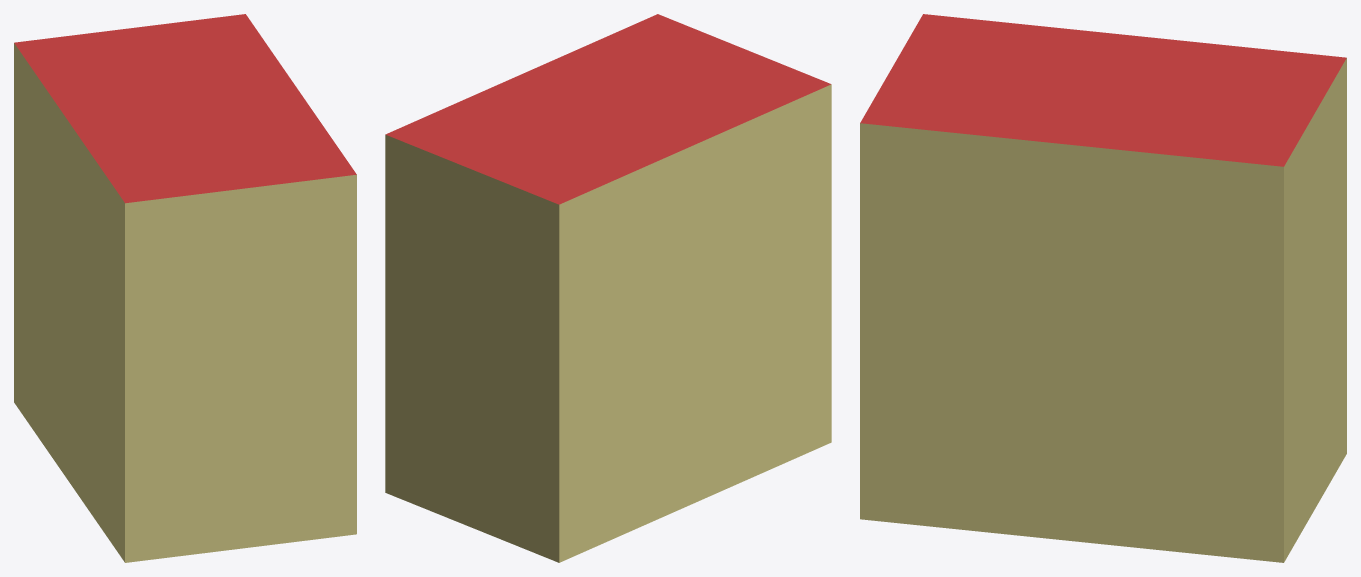
The picture shows the model from 3 angles, left to right: view 1: azimuth 30°, elevation 25°; view 2: azimuth 150°, elevation 25°; view 3: azimuth 270°, elevation 25°; orthographic projection. The views are drawn at different scales.
Visible parts, largest first — view 1: group_4, group_3; view 2: group_4, group_3; view 3: group_4, group_3.
Boxes of the visible parts, box(x1,y1,x2,y2) form: group_4: box(14, 43, 356, 562); group_3: box(14, 14, 356, 203); group_4: box(385, 84, 831, 562); group_3: box(385, 14, 830, 204); group_4: box(860, 58, 1346, 562); group_3: box(860, 14, 1346, 166).
Bounding box in the file's own units: 4.77 × 6.42 × 5.77.
